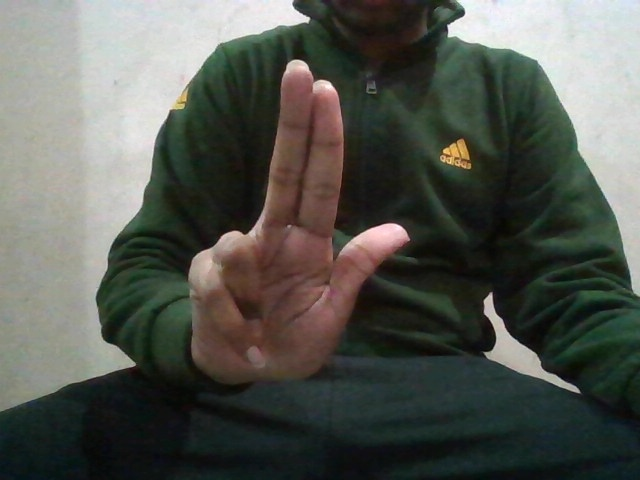K: (185, 55, 414, 382)
